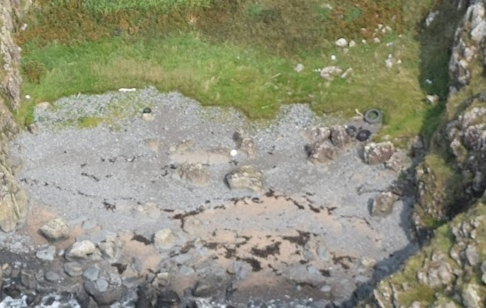scattered_barrel: (341, 101, 391, 143)
white_in_green: (128, 96, 166, 125)
